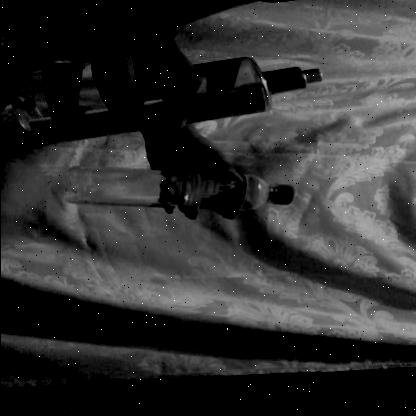Plastic Bottle: (30, 164, 322, 229)
